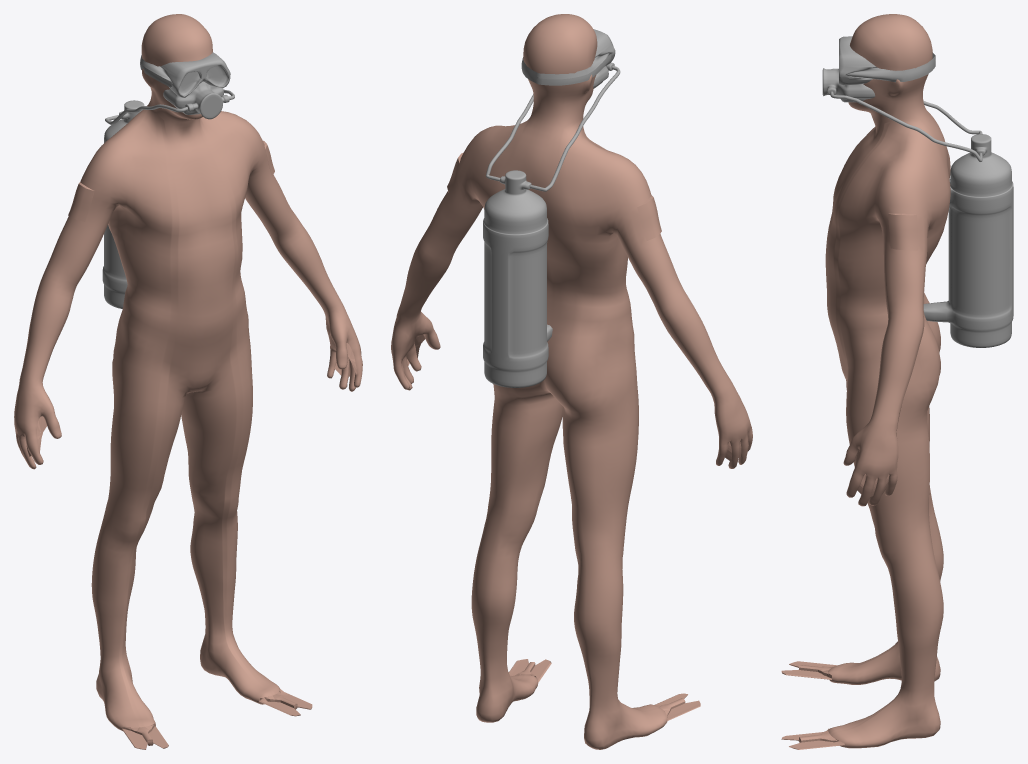
File: Mergulhador.fbx
3 renders of one model, left to right at view 1: azimuth 30°, elevation 25°; view 2: azimuth 150°, elevation 25°; view 3: azimuth 270°, elevation 25°, orthographic. The views are drawn at different scales.
Parts seen in each view (by area): view 1: HumanBody:humanBody, Óculos, Cirilo, Máscara; view 2: HumanBody:humanBody, Cirilo, Óculos, MariaJoaquina2; view 3: HumanBody:humanBody, Cirilo, Óculos, Máscara, MariaJoquina.
Part boxes in pixels (bbox=[...]): HumanBody:humanBody: bbox=[14, 14, 362, 749]; Óculos: bbox=[140, 52, 230, 97]; Cirilo: bbox=[102, 100, 146, 308]; Máscara: bbox=[163, 81, 229, 119]; HumanBody:humanBody: bbox=[391, 14, 752, 749]; Cirilo: bbox=[483, 170, 552, 387]; Óculos: bbox=[521, 29, 615, 85]; MariaJoaquina2: bbox=[530, 65, 620, 191]; HumanBody:humanBody: bbox=[781, 14, 950, 749]; Cirilo: bbox=[923, 134, 1013, 347]; Óculos: bbox=[839, 36, 935, 85]; Máscara: bbox=[822, 68, 875, 102]; MariaJoquina: bbox=[830, 91, 982, 161].
Size of the model in its own units: 580 by 1110 by 336.
